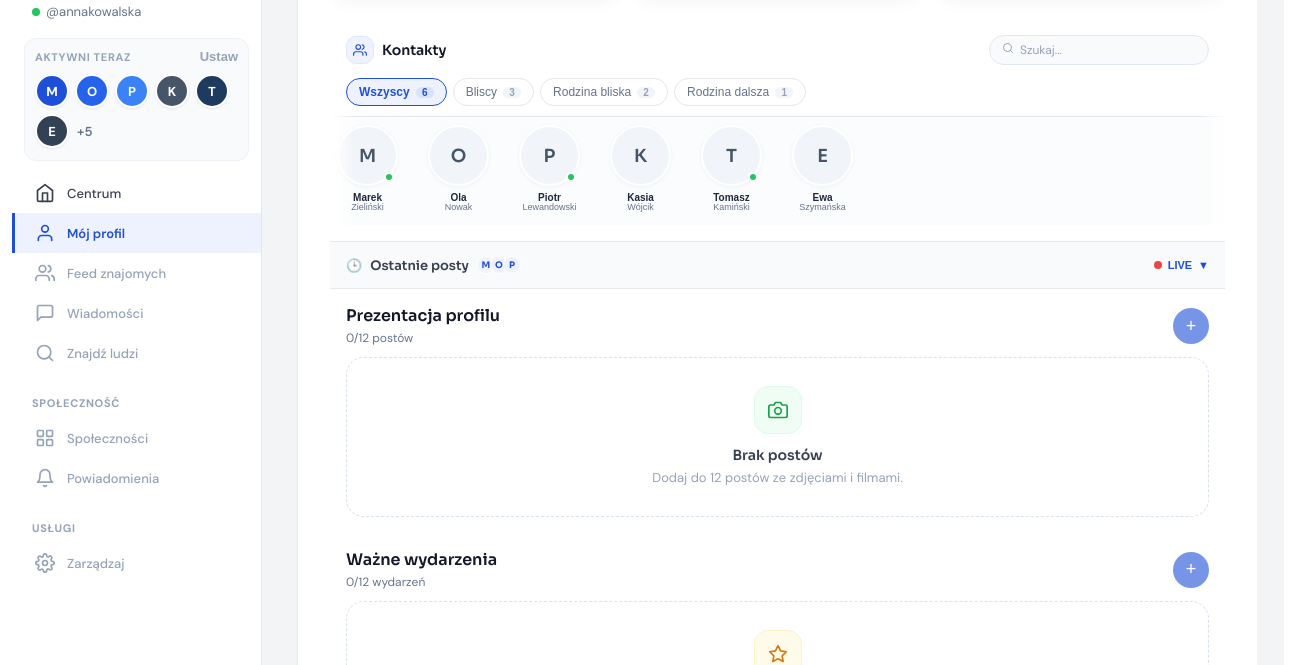
ProfilePage — personal profile mobile shell › quick feed CTA expands via local state
(page scrolled)
Click the button "🕒 Ostatnie posty M O P LIVE ▼".
click(420, 265)  # box [330,241,1225,289]
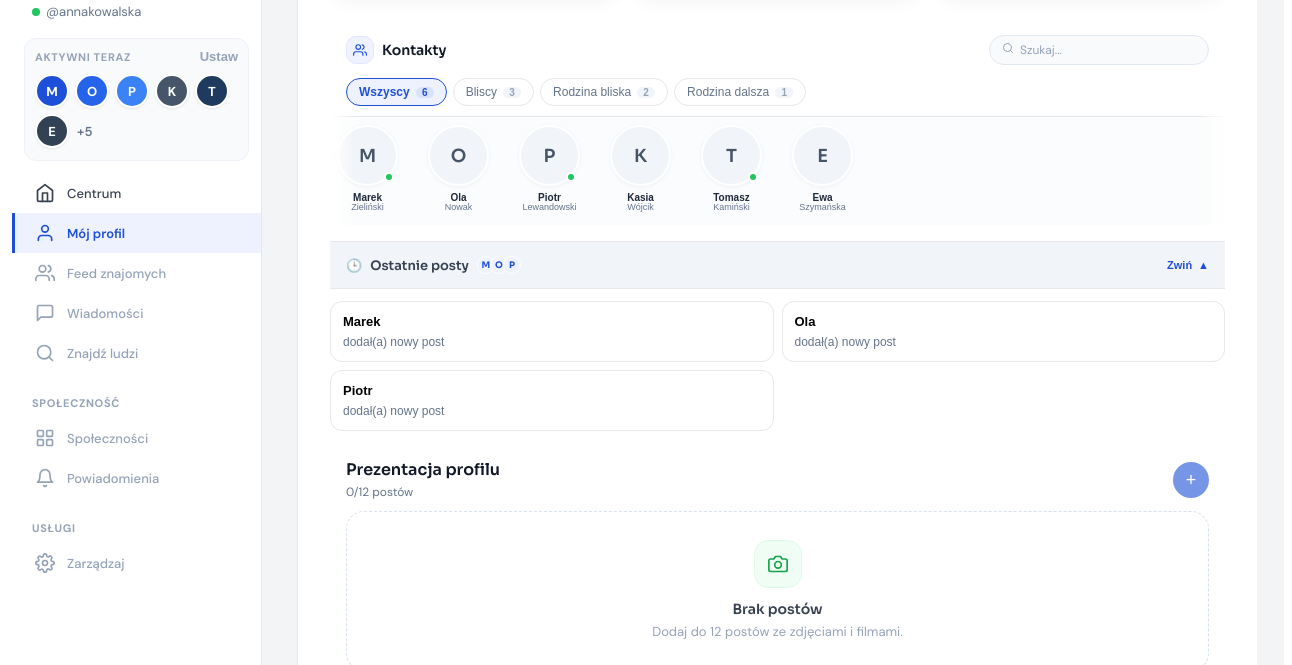
Expected: the button "🕒 Ostatnie posty M O P Zwiń ▲" is expanded, [330,241,1225,289]
